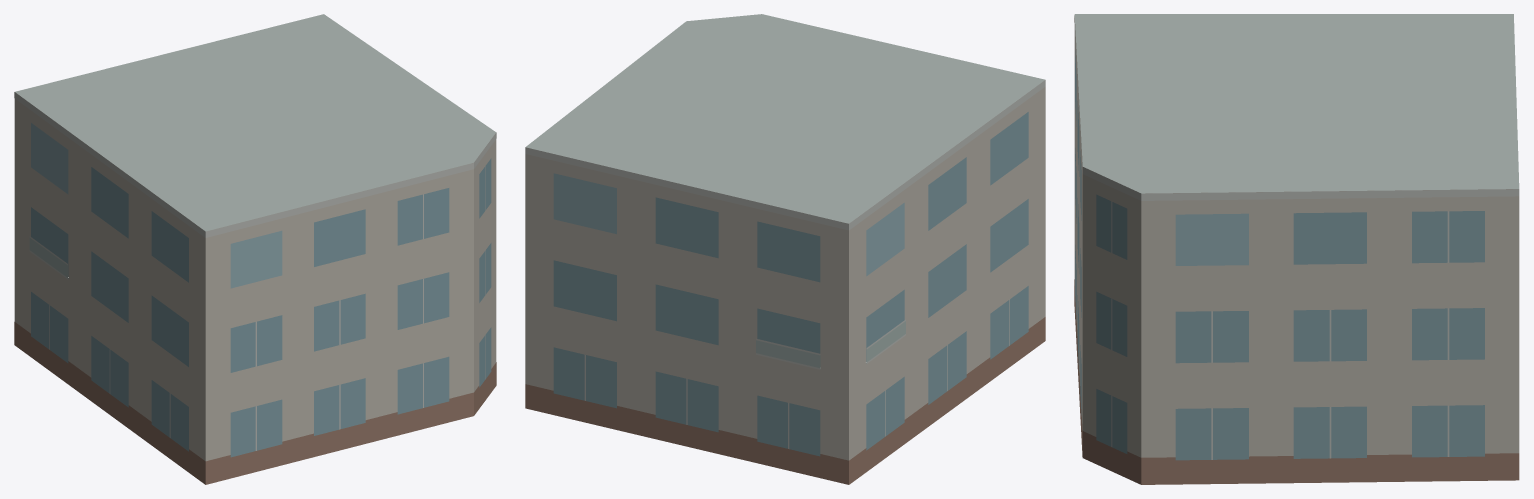
File: survey-upis-32489162.glb
3 renders of one model, left to right at view 1: azimuth 30°, elevation 25°; view 2: azimuth 150°, elevation 25°; view 3: azimuth 270°, elevation 25°, orthographic. The views are drawn at different scales.
Parts seen in each view (by area): view 1: survey-upis-32489162.tmp; view 2: survey-upis-32489162.tmp; view 3: survey-upis-32489162.tmp.
Boxes of the visible parts, left/top/right/bottom form: survey-upis-32489162.tmp: left=14, top=14, right=496, bottom=484; survey-upis-32489162.tmp: left=525, top=14, right=1045, bottom=484; survey-upis-32489162.tmp: left=1074, top=14, right=1519, bottom=484.
Bounding box in the file's own units: 12.59 × 9.5 × 13.15.
